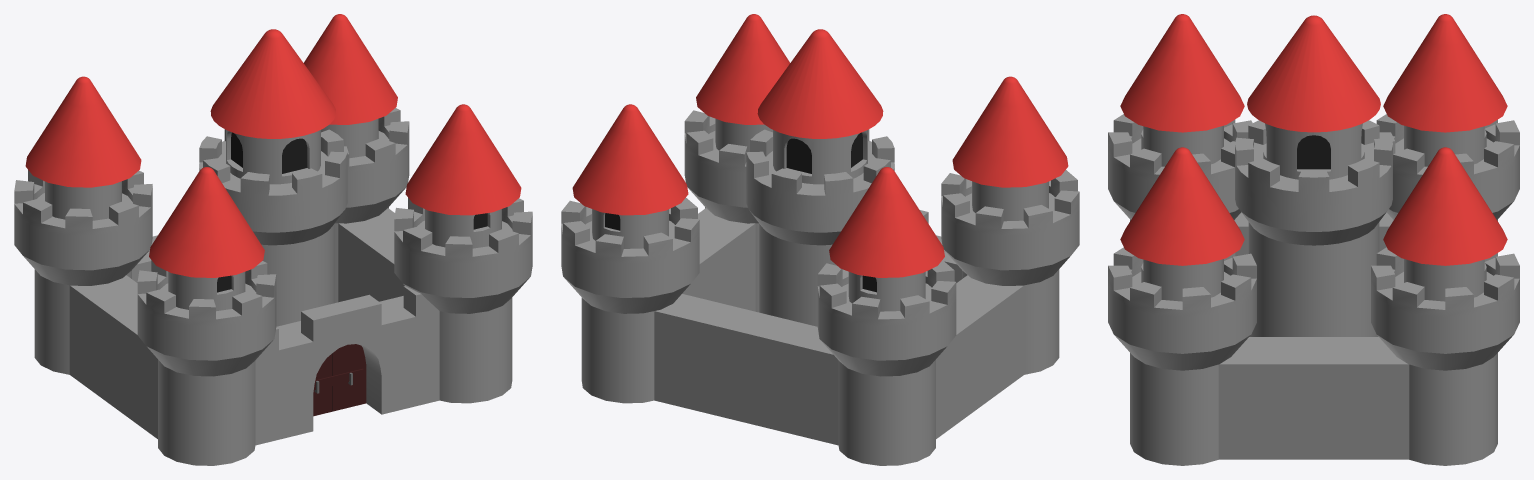
File: castle.fbx
3 views of the same model, side by side, from view 1: azimuth 30°, elevation 25°; view 2: azimuth 150°, elevation 25°; view 3: azimuth 270°, elevation 25° (orthographic). The views are drawn at different scales.
Parts seen in each view (by area): view 1: Circle.2349; view 2: Circle.2349; view 3: Circle.2349.
Boxes of the visible parts, left/top/right/bottom form: Circle.2349: left=14, top=14, right=532, bottom=465; Circle.2349: left=561, top=14, right=1079, bottom=465; Circle.2349: left=1108, top=14, right=1519, bottom=465.
Size of the model in its own units: 216 by 185 by 192.
1 material, 1 textured.
